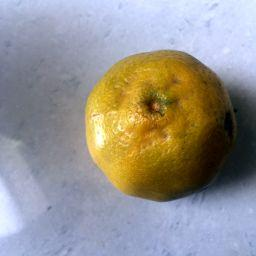Ripe: (88, 50, 235, 195)
